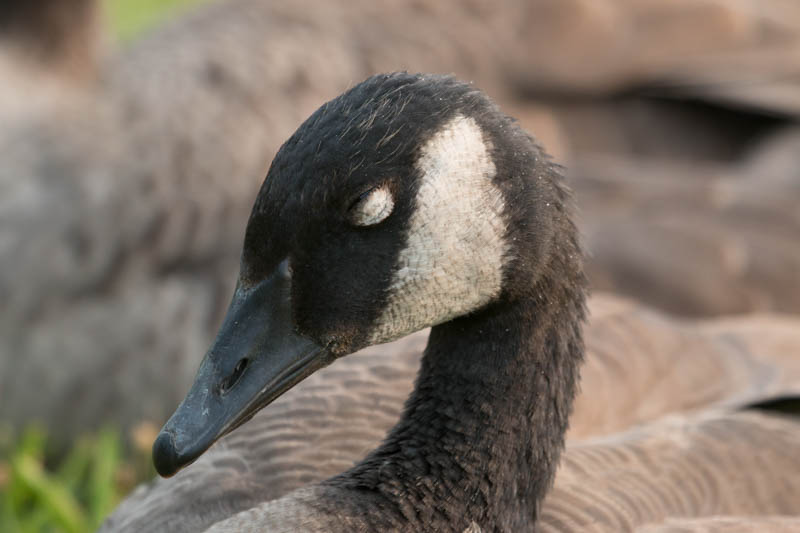goose-head: (150, 71, 576, 479)
